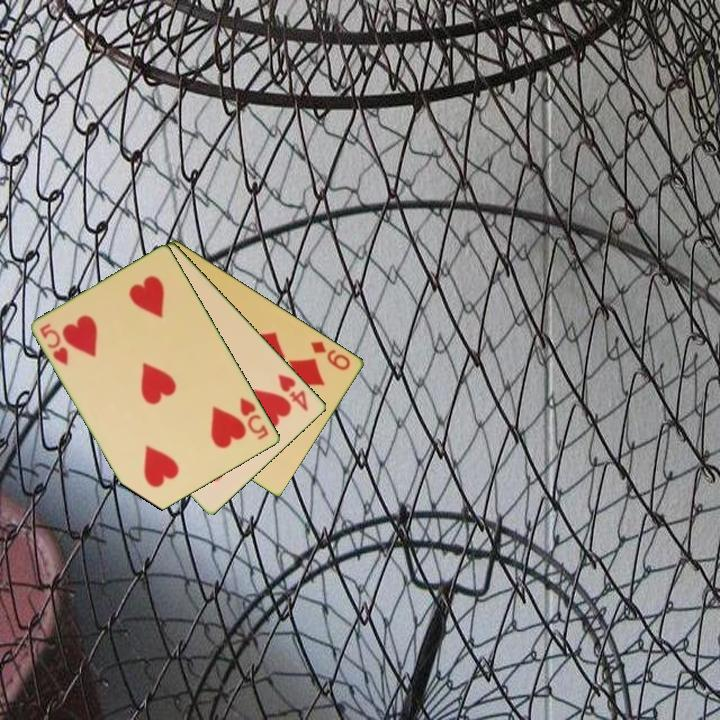4h: (275, 370, 311, 414)
5h: (36, 320, 72, 368), (237, 394, 272, 443)
9d: (307, 337, 354, 373)
